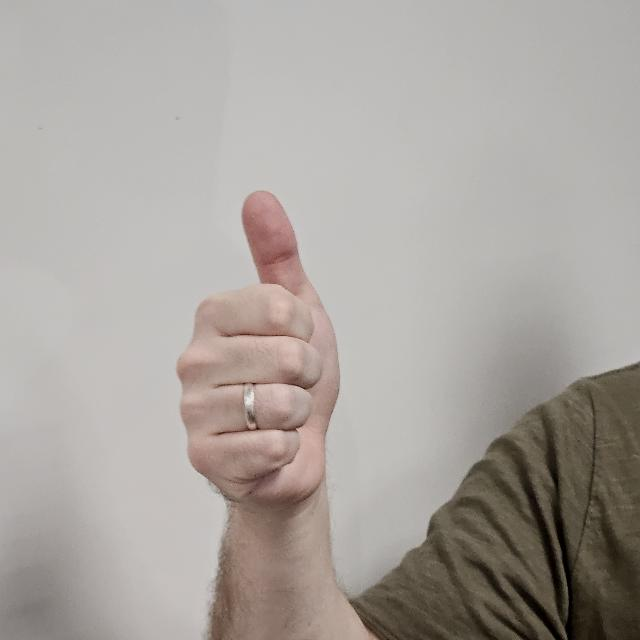Start: (175, 191, 342, 504)
